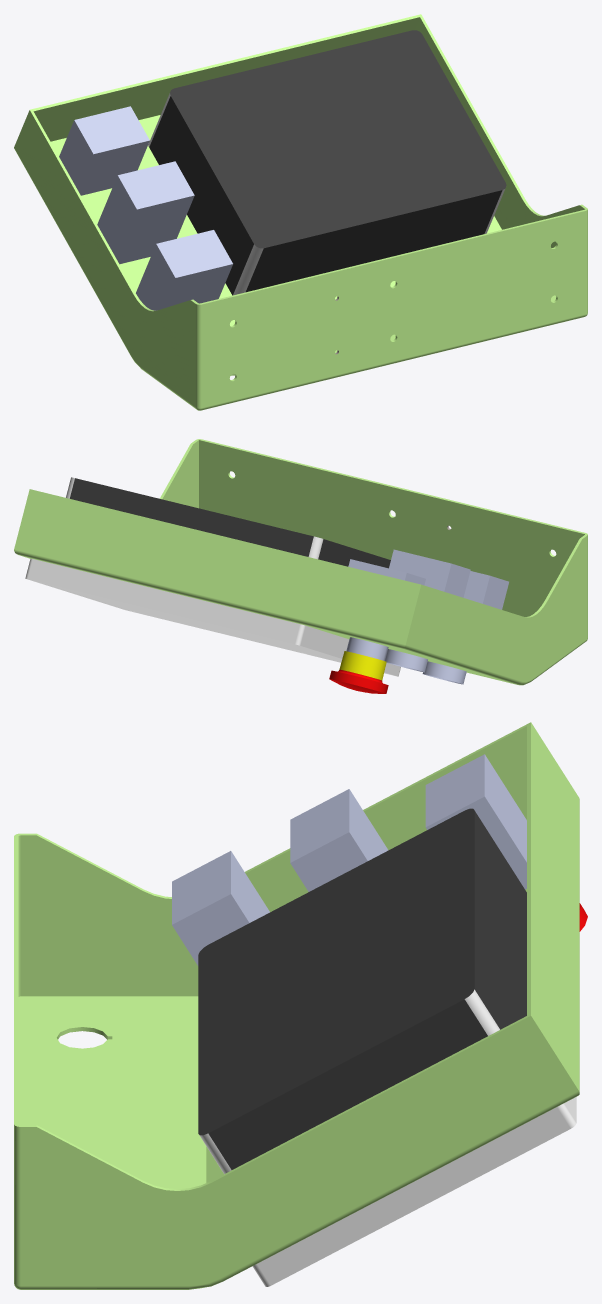
The model's file is panel.fbx.
The picture shows the model from 3 angles, top to bottom: view 1: azimuth 30°, elevation 25°; view 2: azimuth 150°, elevation 25°; view 3: azimuth 270°, elevation 25°; orthographic projection. The views are drawn at different scales.
Visible parts, largest first — view 1: meshparentnode (×22); view 2: meshparentnode (×24); view 3: meshparentnode (×21).
Part boxes in pixels (left/top/right/bottom): meshparentnode (×22): left=14, top=14, right=587, bottom=410; meshparentnode (×24): left=14, top=439, right=587, bottom=693; meshparentnode (×21): left=14, top=722, right=579, bottom=1285.
Bounding box in the file's own units: 0.305 × 0.2521 × 0.1387.
